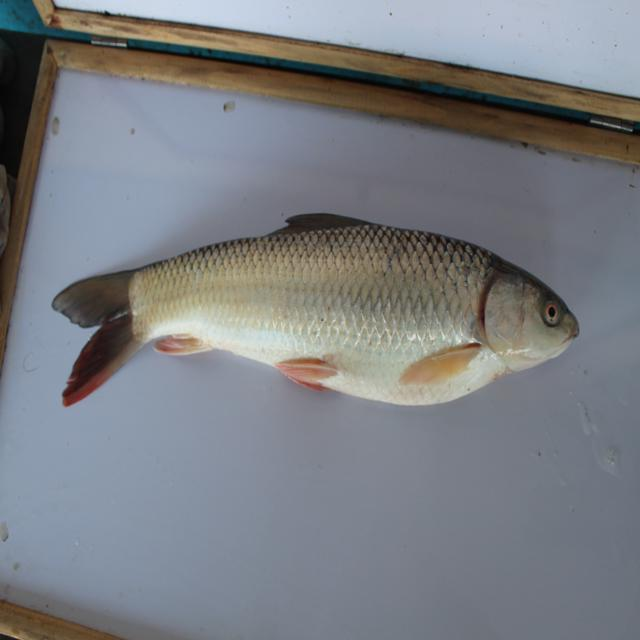Mori: (50, 196, 589, 430)
